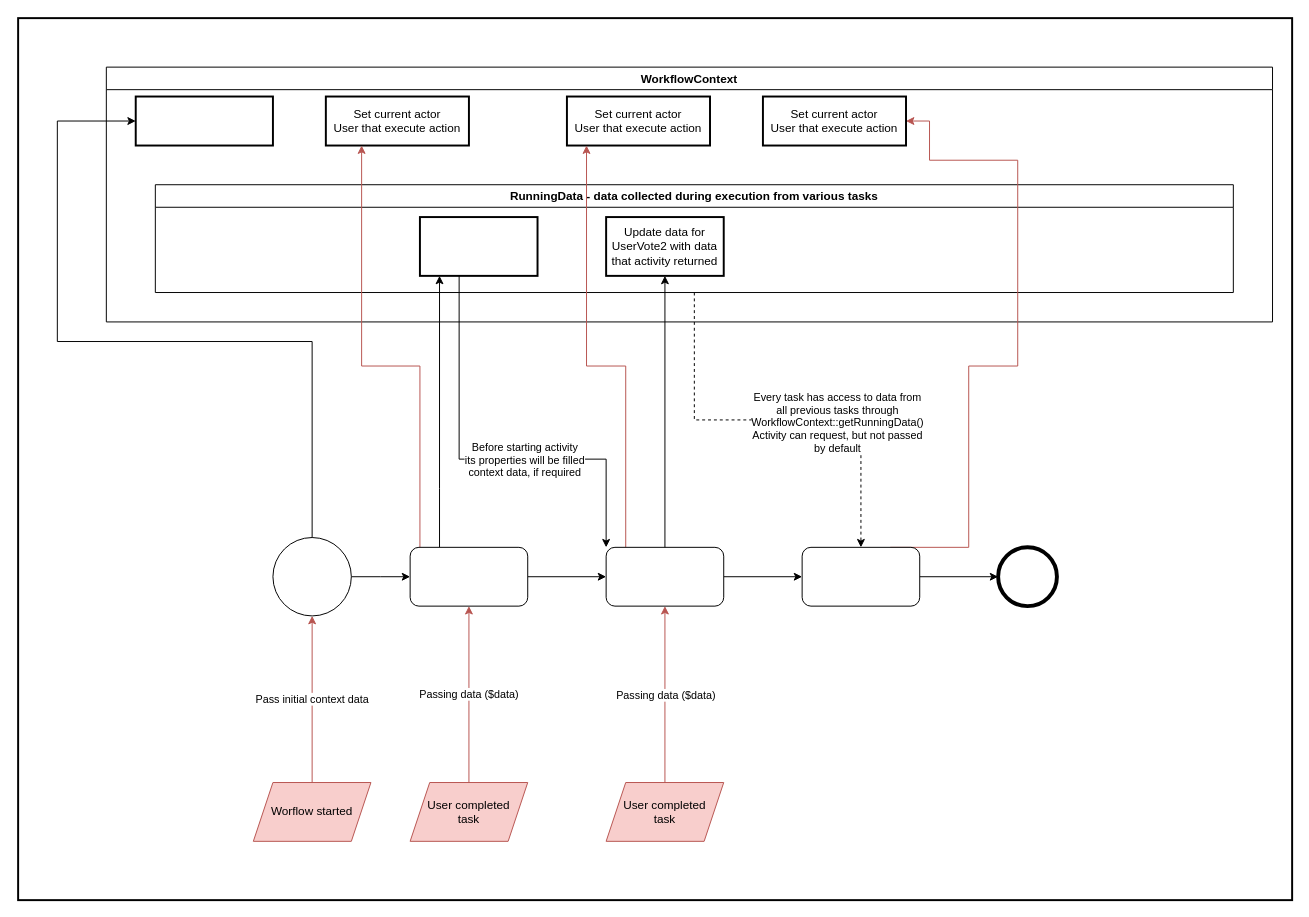
Image size: 1309x917. Some labels were removed from this diagram. The shapes that lost their labels are listed below. From the top down, each one's centre as x and y in pixels, then its label:
At pixel 203 120: "Update global context data Class DefinitionContext".
At pixel 478 246: "Update data for UserVote1 with data that activity returned".
At pixel 468 576: "UserVote1".
At pixel 664 576: "UserVote2".
At pixel 860 576: "SendMail".
